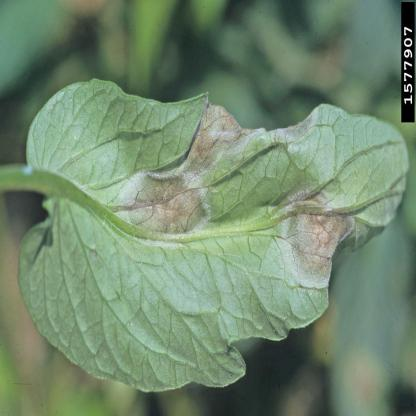Potato leaf late blight: (15, 74, 413, 397)
